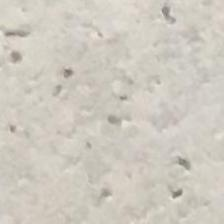Non_Crack: (9, 29, 216, 197)
